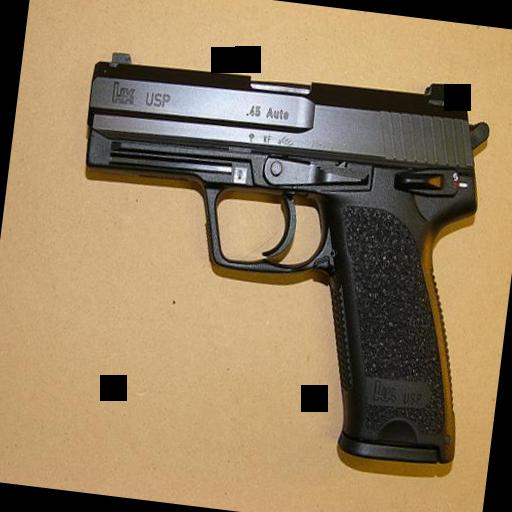Handgun: (48, 38, 500, 466)
